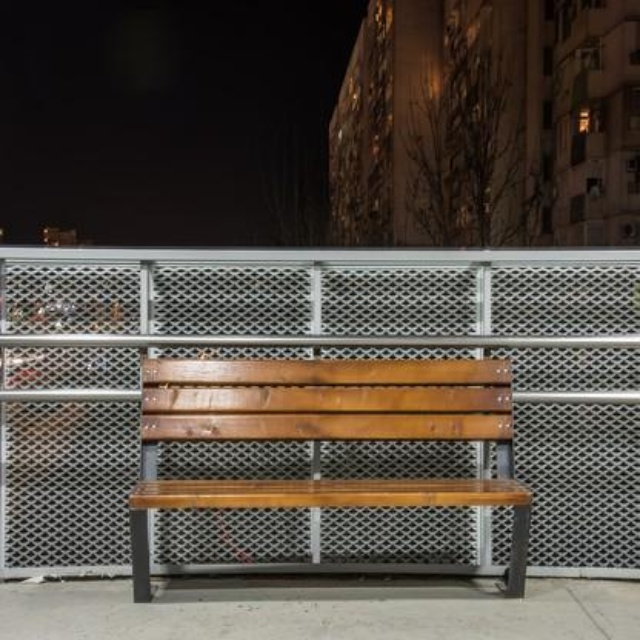obstacle: (109, 346, 558, 598)
